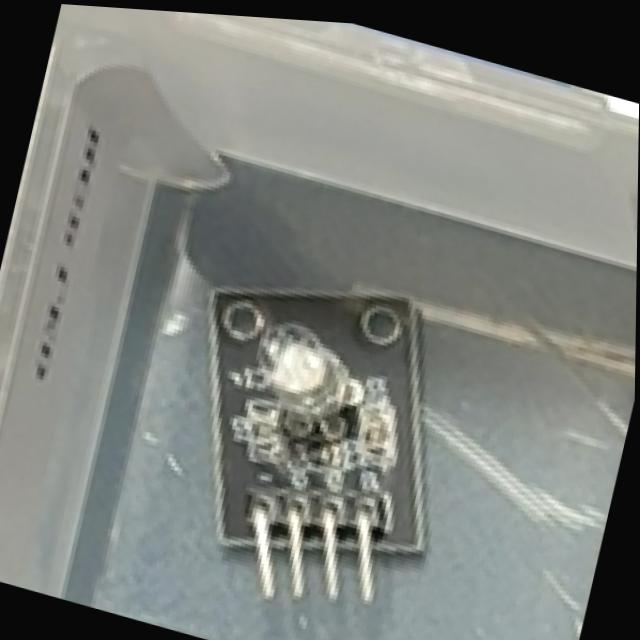RGB LED: (144, 238, 475, 640)
